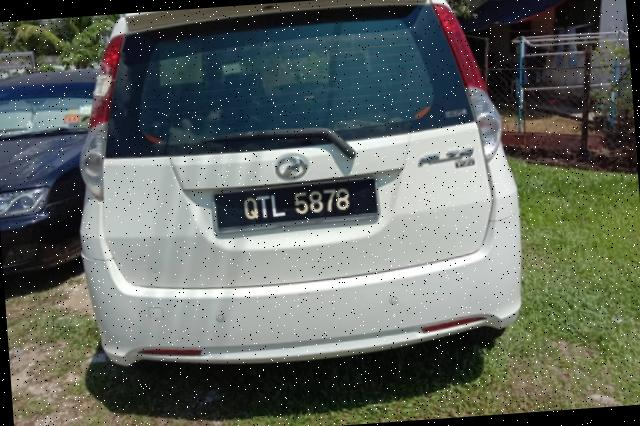License_Plate: (213, 178, 381, 233)
car: (58, 1, 531, 372)
